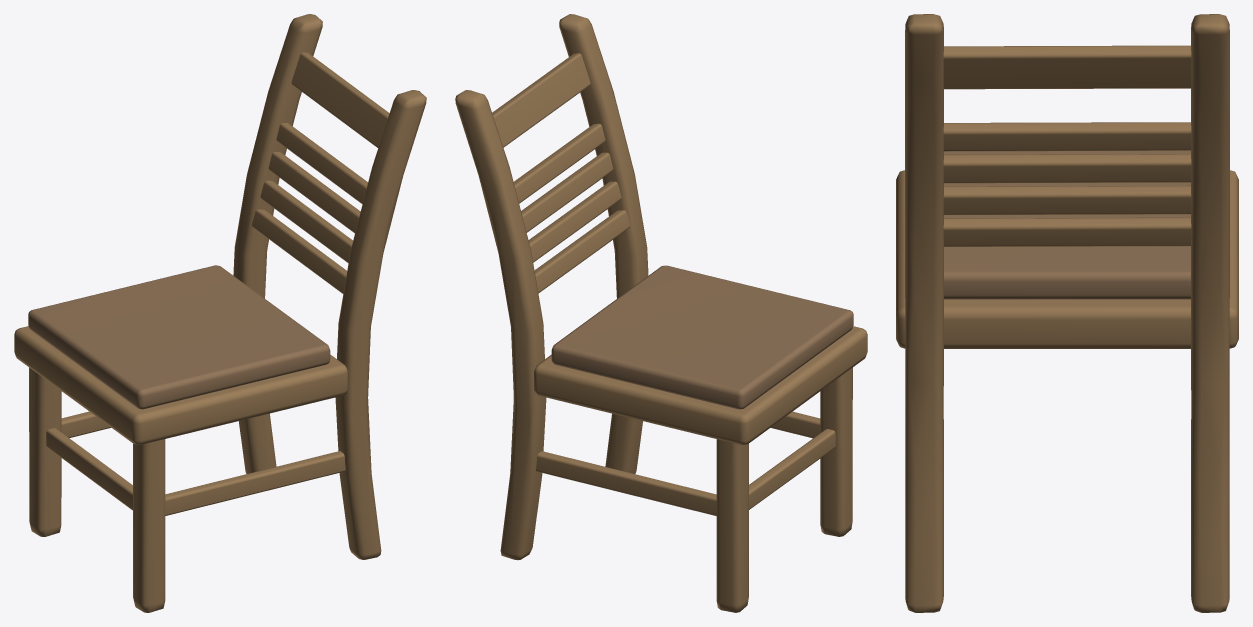
The model's file is chair_01_beige.fbx.
The picture shows the model from 3 angles, left to right: view 1: azimuth 30°, elevation 25°; view 2: azimuth 150°, elevation 25°; view 3: azimuth 270°, elevation 25°; orthographic projection. The views are drawn at different scales.
Parts seen in each view (by area): view 1: chair_01_beige; view 2: chair_01_beige; view 3: chair_01_beige.
Boxes of the visible parts, x1=… form: chair_01_beige: x1=14, y1=14, x2=426, y2=612; chair_01_beige: x1=455, y1=14, x2=867, y2=612; chair_01_beige: x1=896, y1=14, x2=1238, y2=612.
Size of the model in its own units: 73.08 by 106 by 53.
2 materials, 2 textured.
